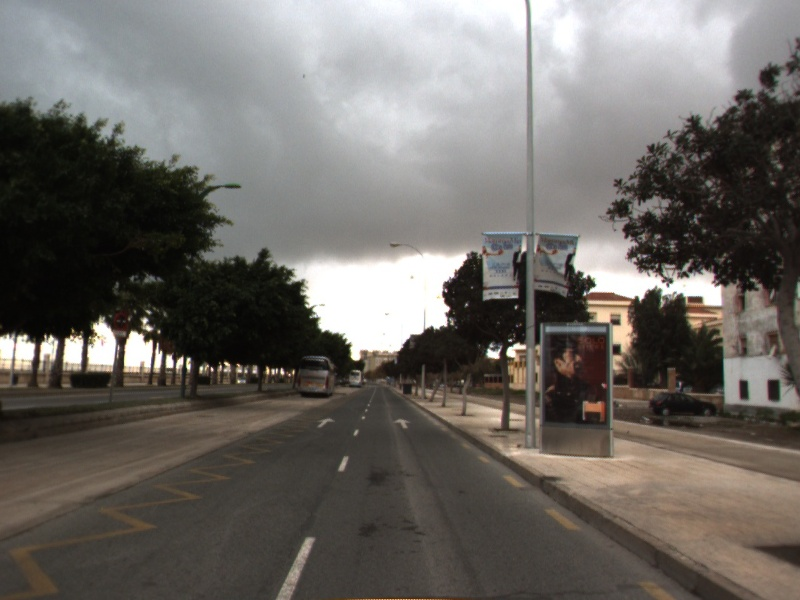STRAIGHT: (391, 416, 414, 431), (314, 416, 338, 430)
